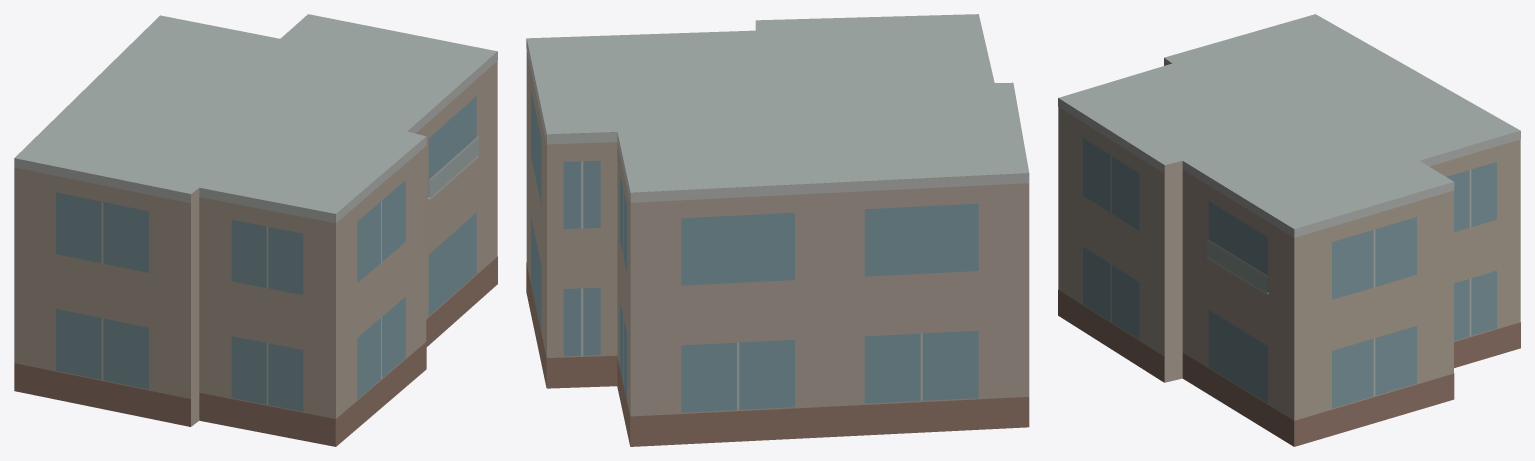
The model's file is survey-upis-33018421.glb.
The picture shows the model from 3 angles, left to right: view 1: azimuth 30°, elevation 25°; view 2: azimuth 150°, elevation 25°; view 3: azimuth 270°, elevation 25°; orthographic projection. The views are drawn at different scales.
Parts seen in each view (by area): view 1: survey-upis-33018421.tmp; view 2: survey-upis-33018421.tmp; view 3: survey-upis-33018421.tmp.
Boxes of the visible parts, x1,y1,x2,y2 form: survey-upis-33018421.tmp: (14, 14, 497, 446); survey-upis-33018421.tmp: (526, 14, 1029, 446); survey-upis-33018421.tmp: (1058, 14, 1520, 446).
Size of the model in its own units: 12.94 by 6.1 by 11.76.
